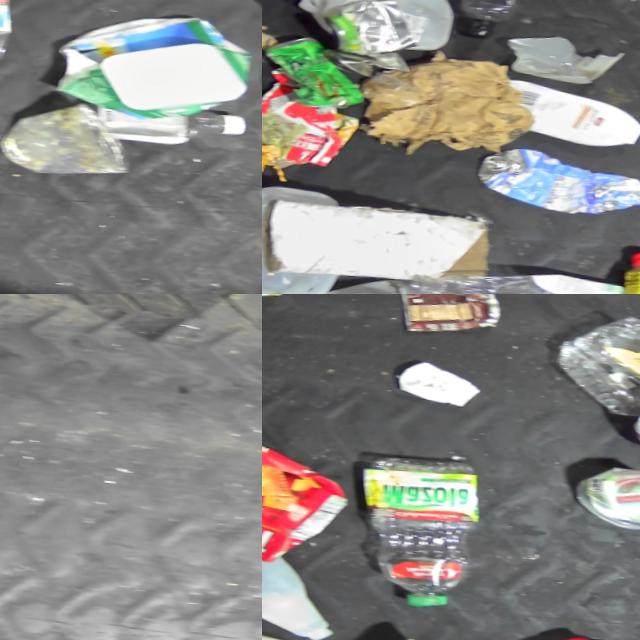can: (262, 30, 375, 110), (393, 294, 507, 335), (575, 456, 640, 527)
milk_jug: (262, 174, 353, 294), (262, 531, 350, 640), (289, 0, 460, 49), (266, 266, 460, 294)
plastic_bottle: (353, 448, 489, 607), (95, 93, 255, 146), (408, 256, 631, 294), (457, 0, 540, 38)
